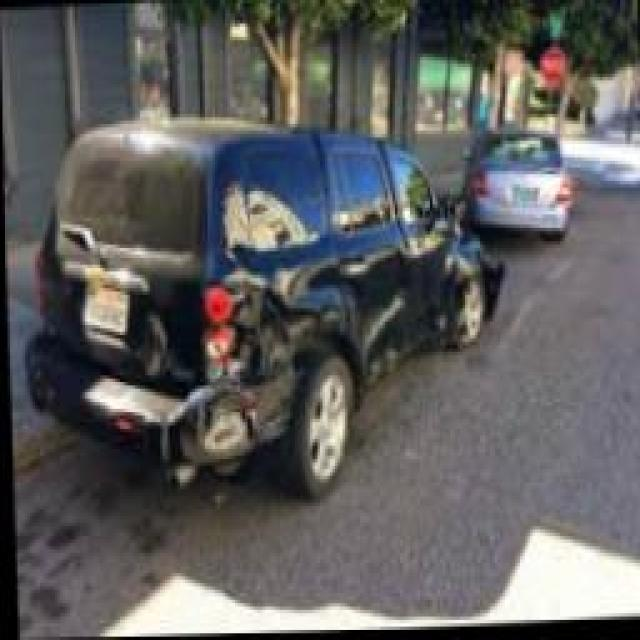replaceable: (186, 275, 318, 487), (462, 244, 513, 320)
